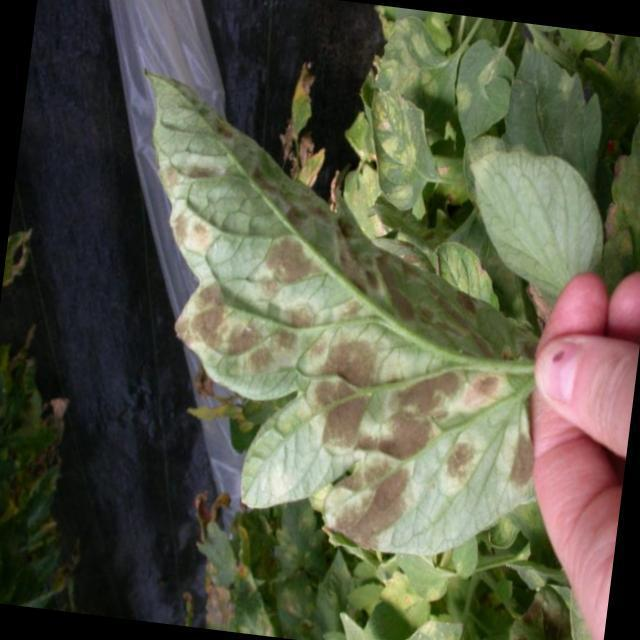Mosaic Virus: (80, 102, 560, 567)
